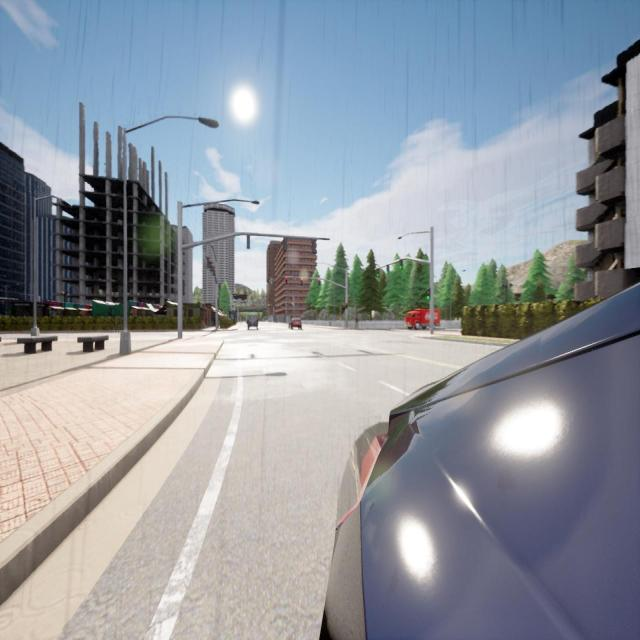Vehicle: (325, 283, 639, 638), (405, 309, 440, 328), (288, 318, 302, 330), (248, 316, 258, 330)
traffic_light: (312, 240, 316, 252), (247, 235, 250, 249), (284, 238, 287, 251), (427, 288, 430, 300), (376, 268, 379, 277), (386, 265, 389, 274), (400, 260, 403, 269), (300, 278, 302, 285), (346, 302, 348, 308), (286, 278, 288, 284), (318, 279, 320, 285)
